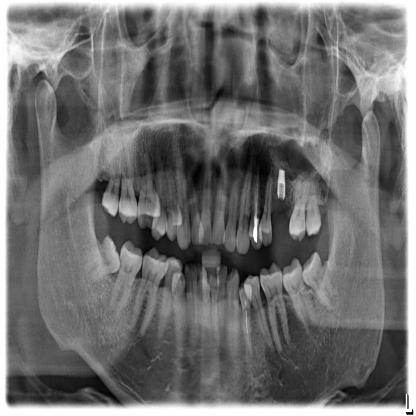Bicon: (276, 165, 287, 203)
